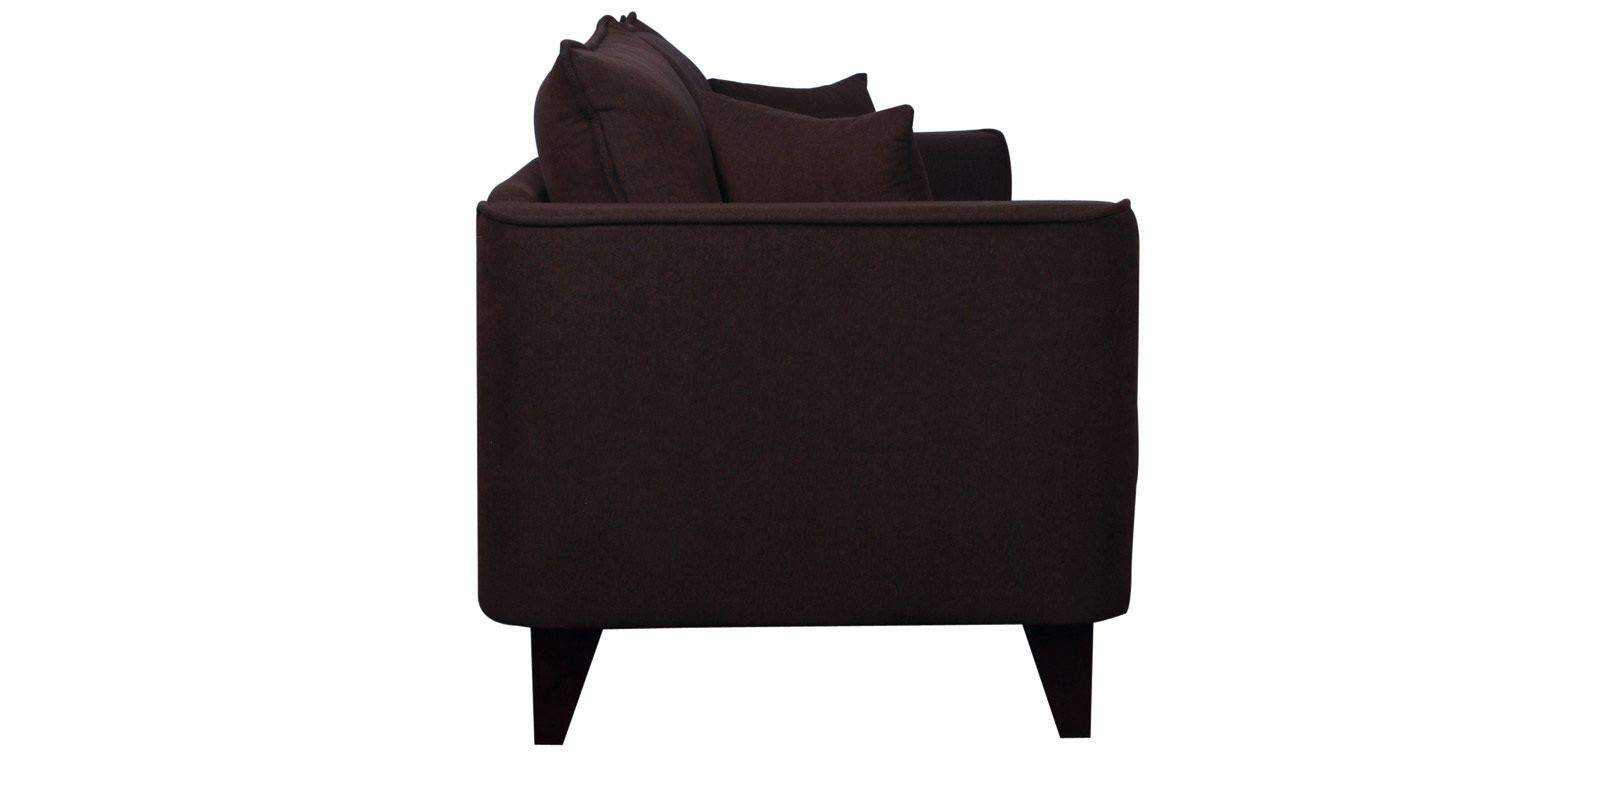Lara Three Seater Sofa in Chestnut Brown Colour by CasaCraft: (474, 9, 1139, 747)
